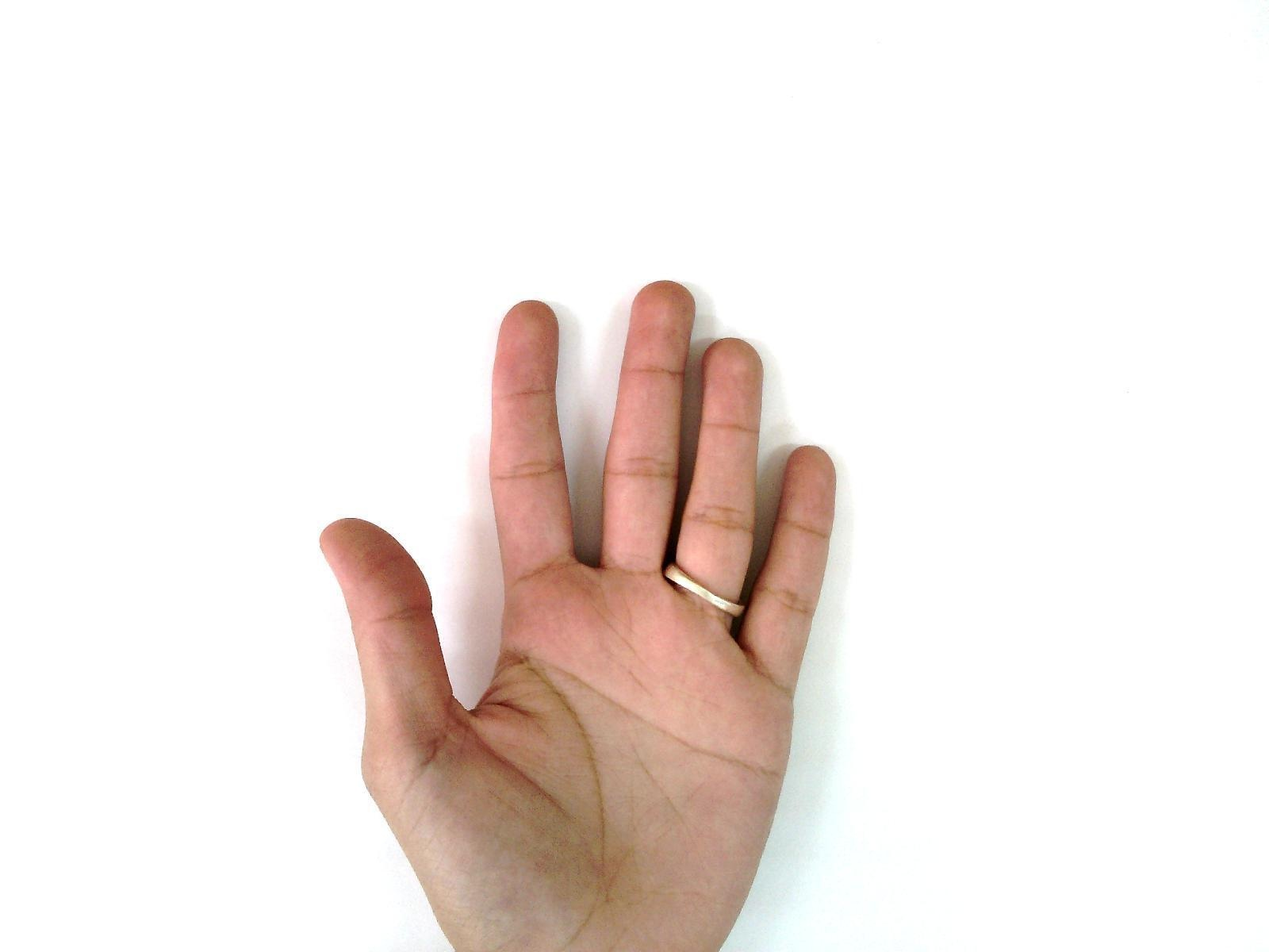open_palm: (317, 278, 840, 951)
